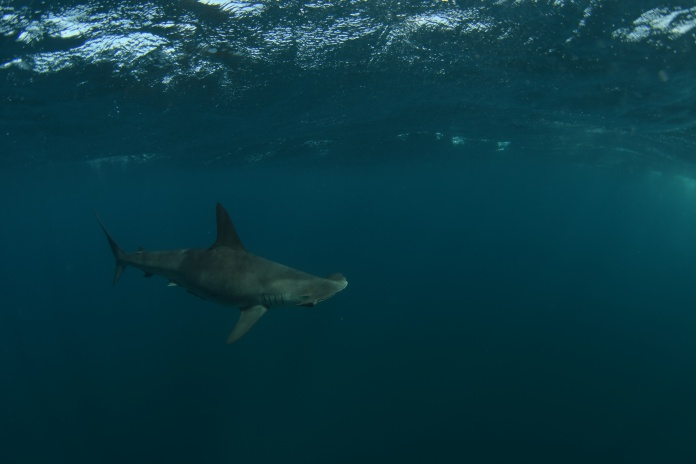Hammer: (78, 176, 380, 350)
